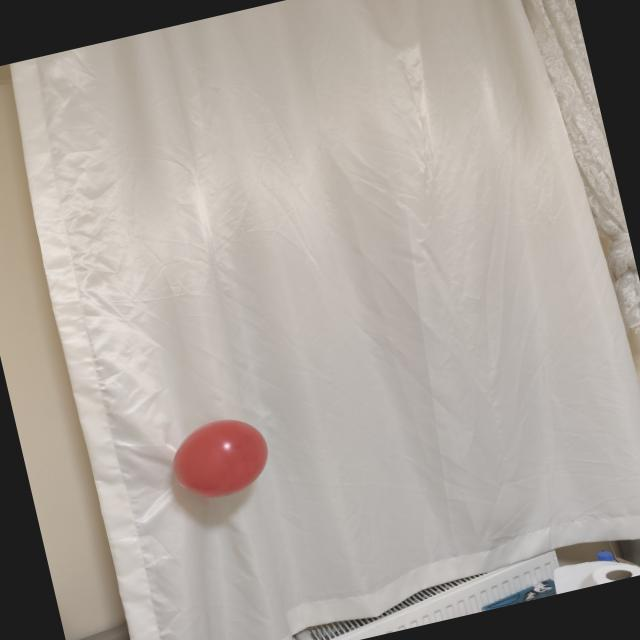balloon: (173, 419, 267, 497)
